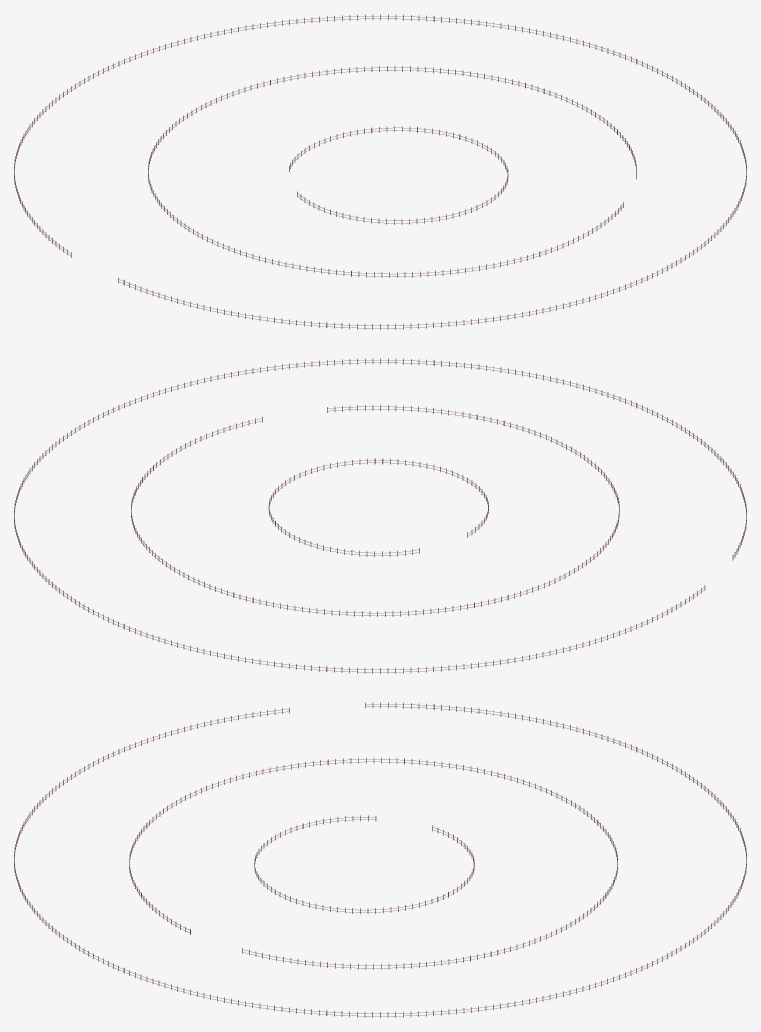
The model's file is Fence colored.fbx.
The picture shows the model from 3 angles, top to bottom: view 1: azimuth 30°, elevation 25°; view 2: azimuth 150°, elevation 25°; view 3: azimuth 270°, elevation 25°; orthographic projection.
Visible parts, largest first — view 1: Outter_ring, Middle_ring, Smallest_fence; view 2: Outter_ring, Middle_ring, Smallest_fence; view 3: Outter_ring, Middle_ring, Smallest_fence.
Boxes of the visible parts, x1,y1,x2,y2 form: Outter_ring: [14, 14, 746, 329]; Middle_ring: [148, 66, 636, 277]; Smallest_fence: [289, 126, 508, 224]; Outter_ring: [14, 358, 746, 673]; Middle_ring: [131, 405, 619, 616]; Smallest_fence: [268, 458, 488, 556]; Outter_ring: [14, 702, 746, 1017]; Middle_ring: [129, 757, 617, 969]; Smallest_fence: [254, 815, 474, 913].
Bounding box in the file's own units: 179 × 1.8 × 179.
